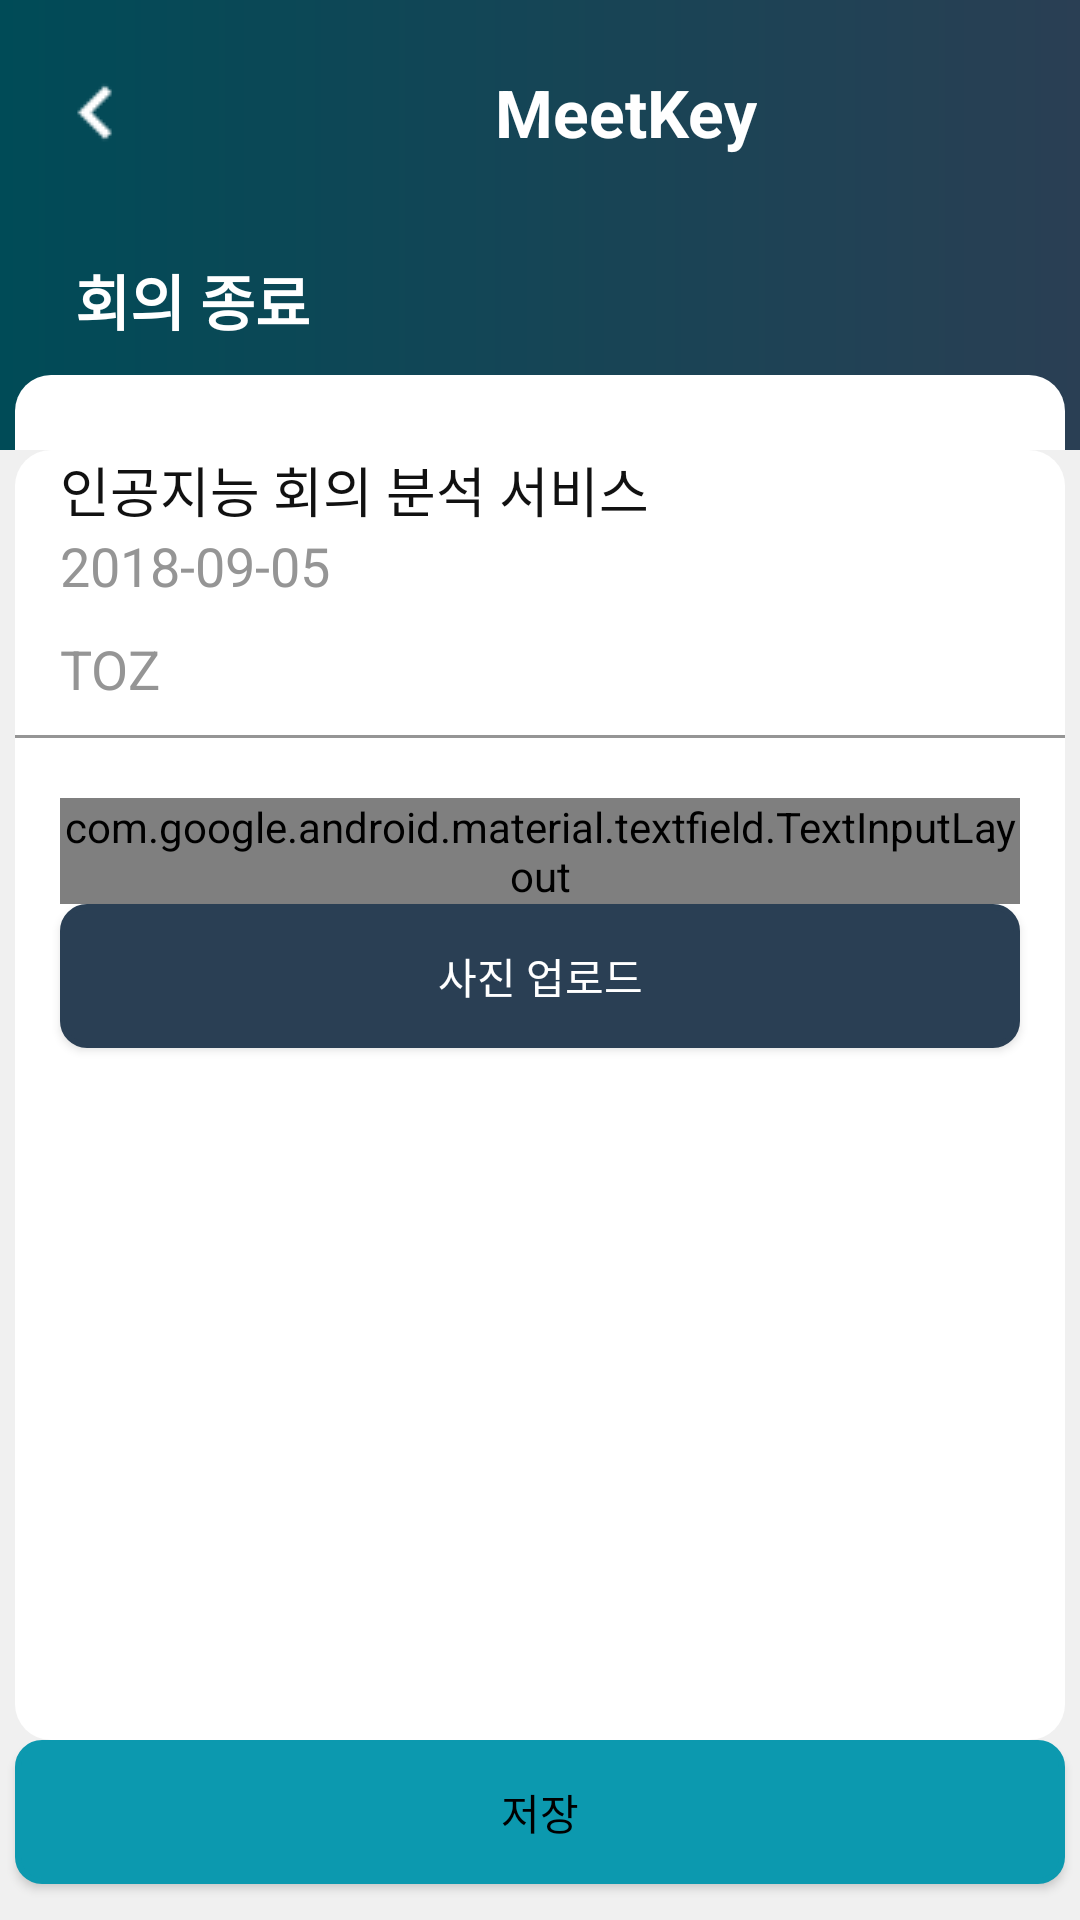

Screen size 1080px x 1920px. Icon name, then its box in pixels as (x1, y1, x2, y2):
back: (77, 86, 112, 139)
